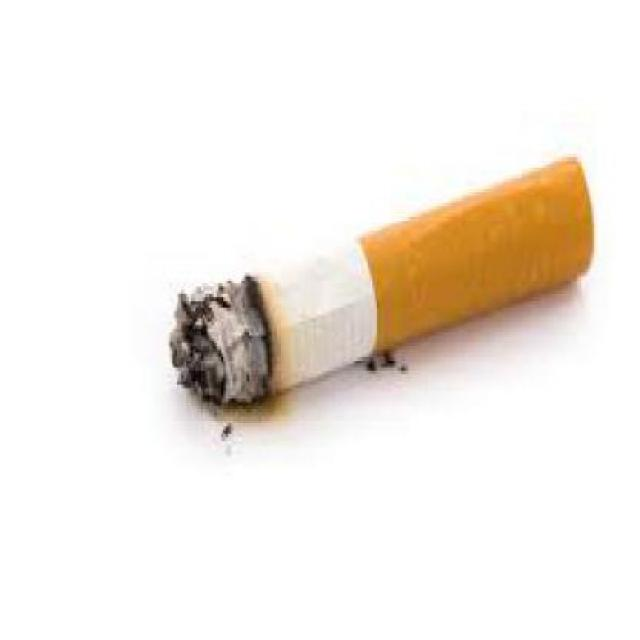cigarette: (152, 104, 606, 462)
